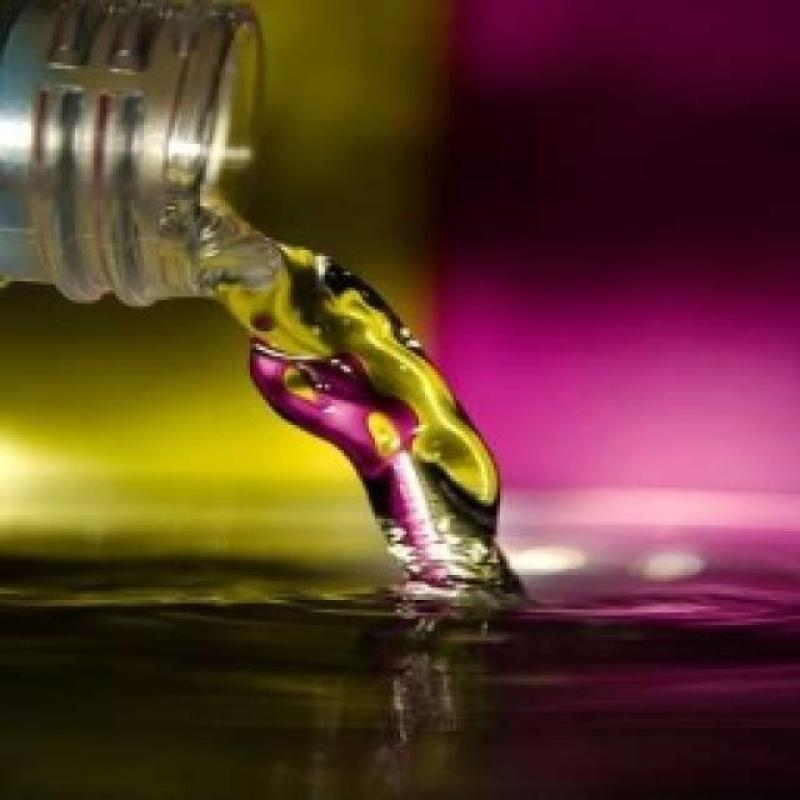botella: (0, 0, 262, 306)
